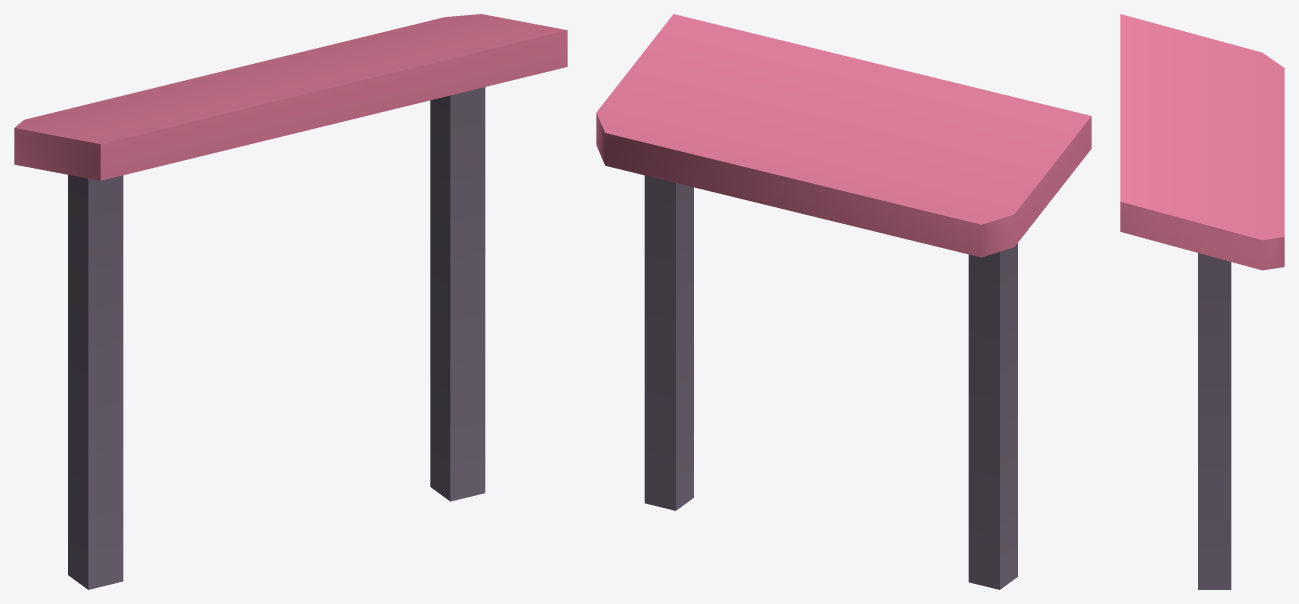
File: detail-awning.glb
3 renders of one model, left to right at view 1: azimuth 30°, elevation 25°; view 2: azimuth 150°, elevation 25°; view 3: azimuth 270°, elevation 25°, orthographic. The views are drawn at different scales.
Parts seen in each view (by area): view 1: detail-awning; view 2: detail-awning; view 3: detail-awning.
Boxes of the visible parts, x1,y1,x2,y2 form: detail-awning: [14, 14, 567, 589]; detail-awning: [596, 14, 1091, 589]; detail-awning: [1120, 14, 1284, 589].
Size of the model in its own units: 0.4 by 0.4 by 0.1479.
1 material, 1 textured.
